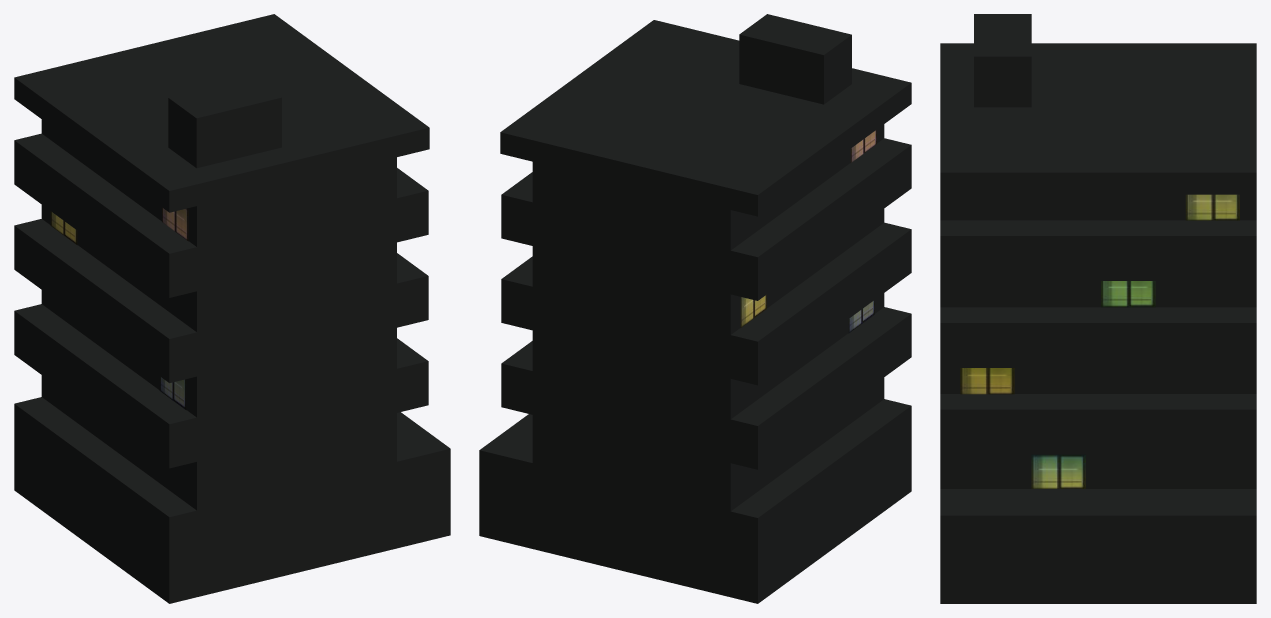
File: AMB_MANSYON_M.glb
The picture shows the model from 3 angles, left to right: view 1: azimuth 30°, elevation 25°; view 2: azimuth 150°, elevation 25°; view 3: azimuth 270°, elevation 25°; orthographic projection. The views are drawn at different scales.
Visible parts, largest first — view 1: BASE; view 2: BASE; view 3: BASE.
Part boxes in pixels (x1,y1,x2,y2): BASE: (14, 14, 450, 603); BASE: (479, 14, 911, 603); BASE: (940, 14, 1256, 603).
Size of the model in its own units: 57.32 by 90.13 by 54.79.
2 materials, 2 textured.
